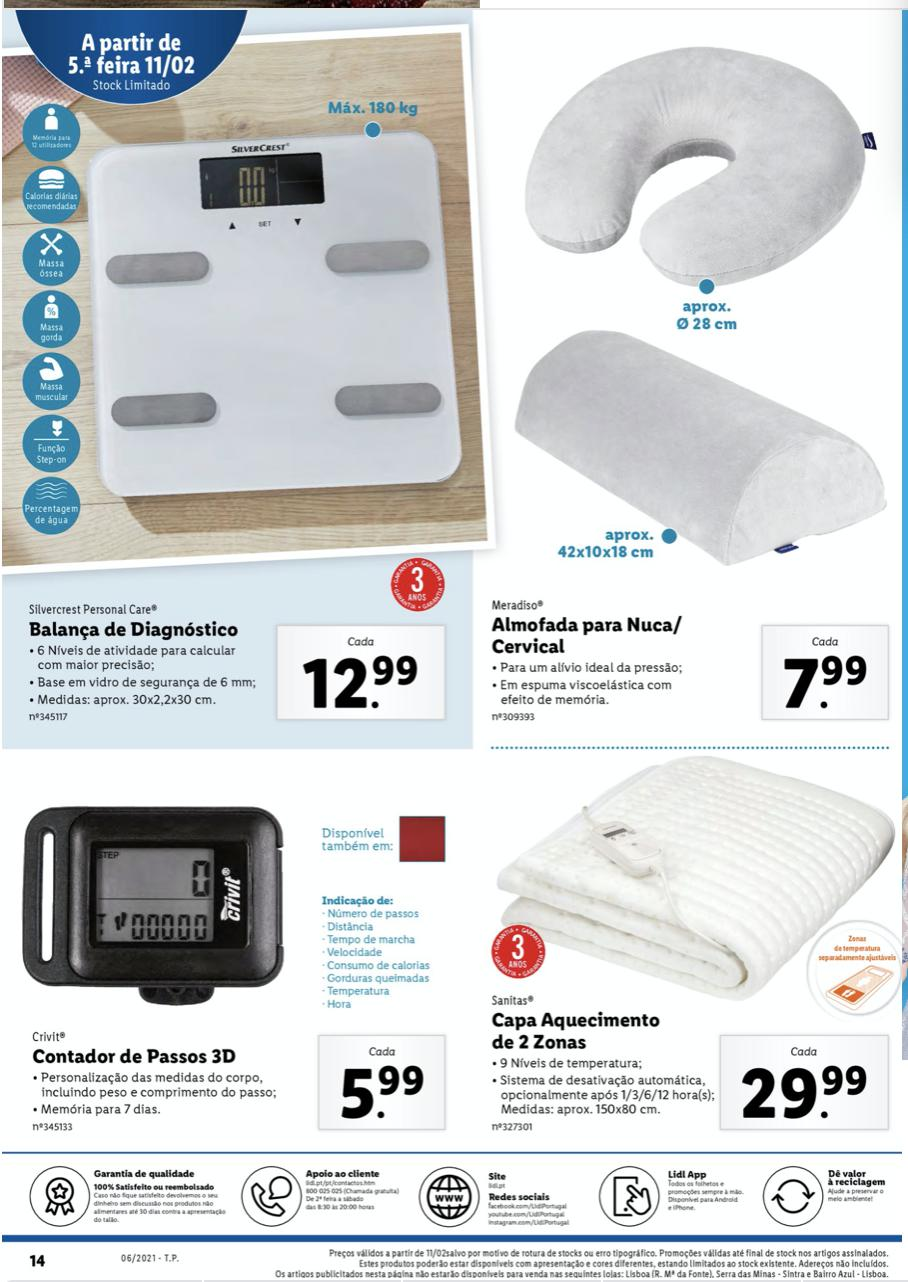name: (488, 615, 685, 662), (488, 1008, 665, 1053), (28, 1042, 241, 1075), (25, 616, 242, 643)
price: (731, 1059, 872, 1123), (299, 653, 431, 718), (334, 1062, 430, 1126), (776, 651, 871, 711)
product: (484, 23, 892, 737), (15, 89, 460, 742), (6, 765, 471, 1148), (477, 751, 893, 1151)
